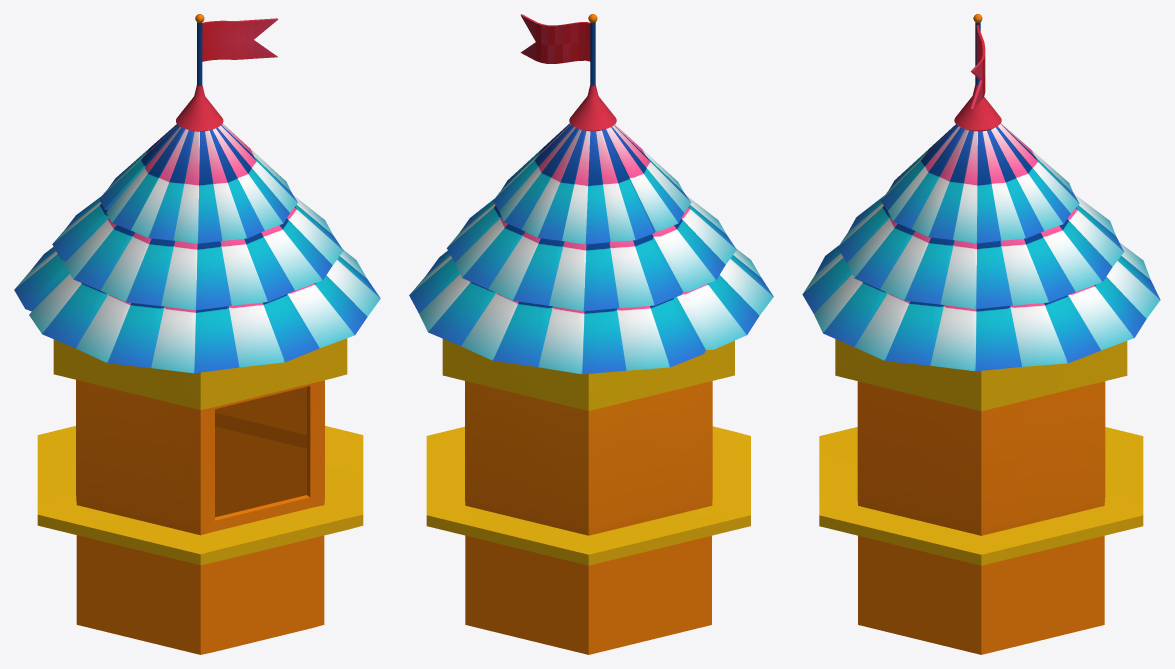
File: ticket_booth.fbx
The picture shows the model from 3 angles, left to right: view 1: azimuth 30°, elevation 25°; view 2: azimuth 150°, elevation 25°; view 3: azimuth 270°, elevation 25°; orthographic projection.
Parts seen in each view (by area): view 1: booth, roof, flag; view 2: booth, roof, flag; view 3: booth, roof, flag.
Boxes of the visible parts, bbox=[...] form: booth: bbox=[37, 338, 363, 654]; roof: bbox=[14, 123, 380, 373]; flag: bbox=[176, 14, 278, 131]; booth: bbox=[426, 339, 750, 654]; roof: bbox=[409, 123, 773, 374]; flag: bbox=[520, 14, 616, 131]; booth: bbox=[819, 339, 1143, 654]; roof: bbox=[802, 123, 1160, 371]; flag: bbox=[954, 14, 1001, 131].
Bounding box in the file's own units: 4.1 × 7.01 × 3.92.
